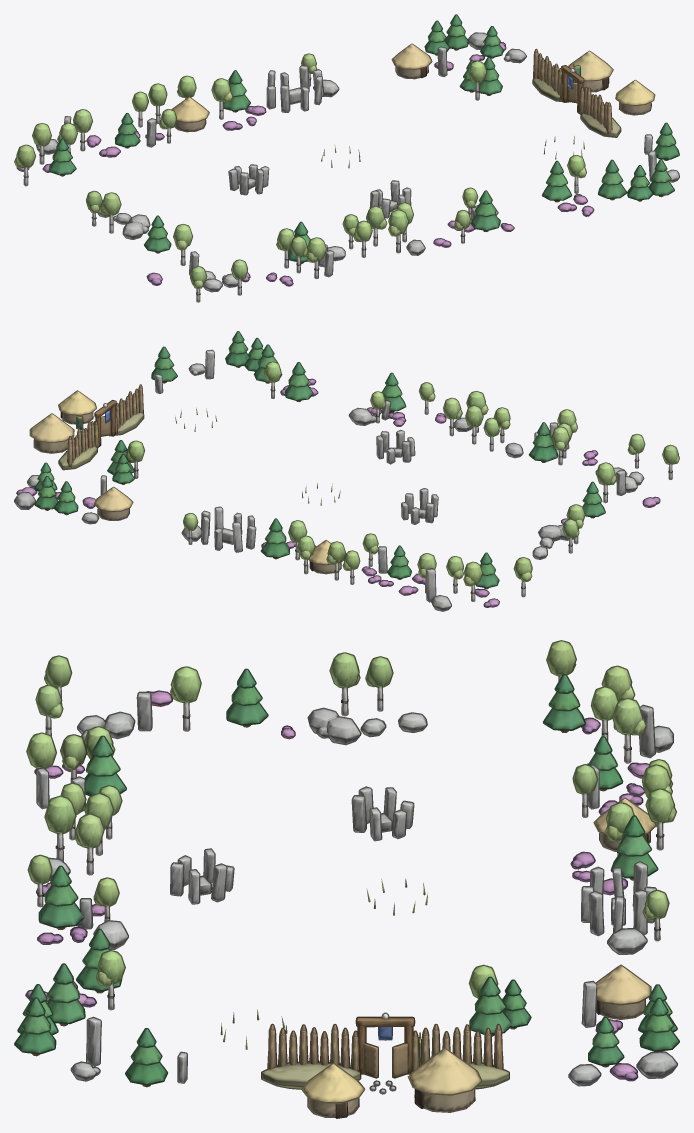
The model's file is highland_ford.glb.
3 views of the same model, one above another, from view 1: azimuth 30°, elevation 25°; view 2: azimuth 150°, elevation 25°; view 3: azimuth 270°, elevation 25° (orthographic). The views are drawn at different scales.
Visible parts, largest first — view 1: Baked_matte, Baked_matte_Outline; view 2: Baked_matte, Baked_matte_Outline; view 3: Baked_matte, Baked_matte_Outline.
Boxes of the visible parts, x1,y1,x2,y2 form: Baked_matte: [15, 15, 679, 301]; Baked_matte_Outline: [14, 14, 679, 302]; Baked_matte: [14, 332, 678, 610]; Baked_matte_Outline: [14, 331, 679, 611]; Baked_matte: [15, 641, 678, 1117]; Baked_matte_Outline: [14, 640, 679, 1118].
Size of the model in its own units: 40.53 by 3.43 by 26.86.
